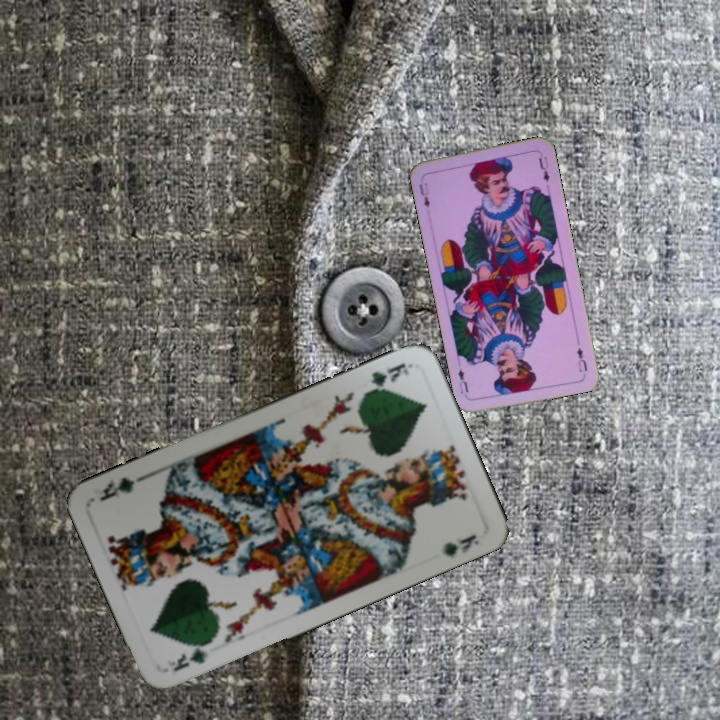EU: (415, 179, 432, 211), (573, 343, 590, 375)
GK: (163, 635, 216, 674), (367, 358, 413, 389)
